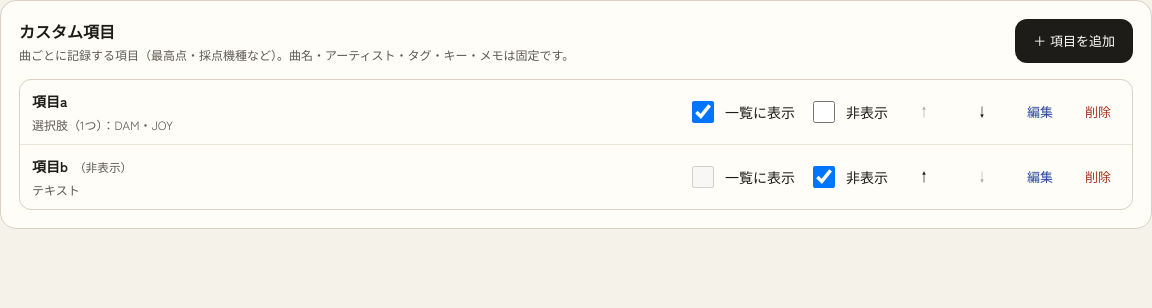
Test: FieldsSection › メッセージのないエラーは汎用の文言
The width and height of the screenshot is (1152, 308).
Click the button named "項目aを下へ" at (982, 112), box [960,90,1004,134]
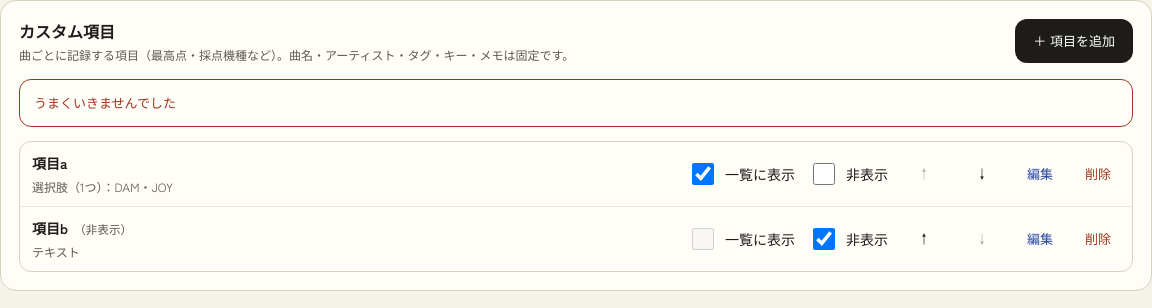
Expected: the message reads "うまくいきませんでした", [34,93,176,112]
